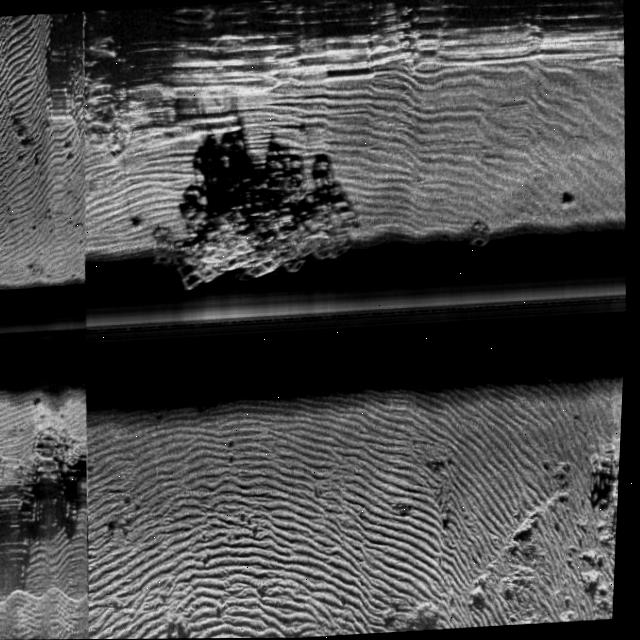artificial reef: (142, 171, 384, 319), (440, 210, 516, 254)
